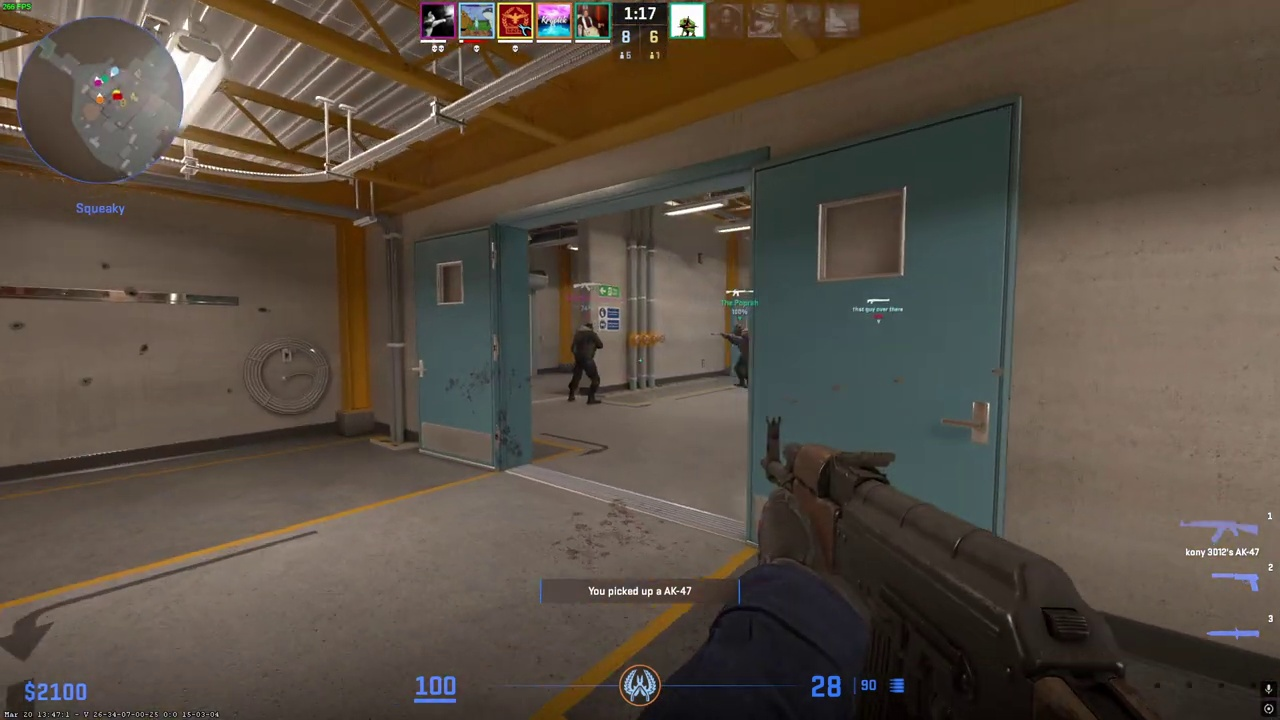CT: (569, 322, 602, 404), (729, 324, 750, 387)
